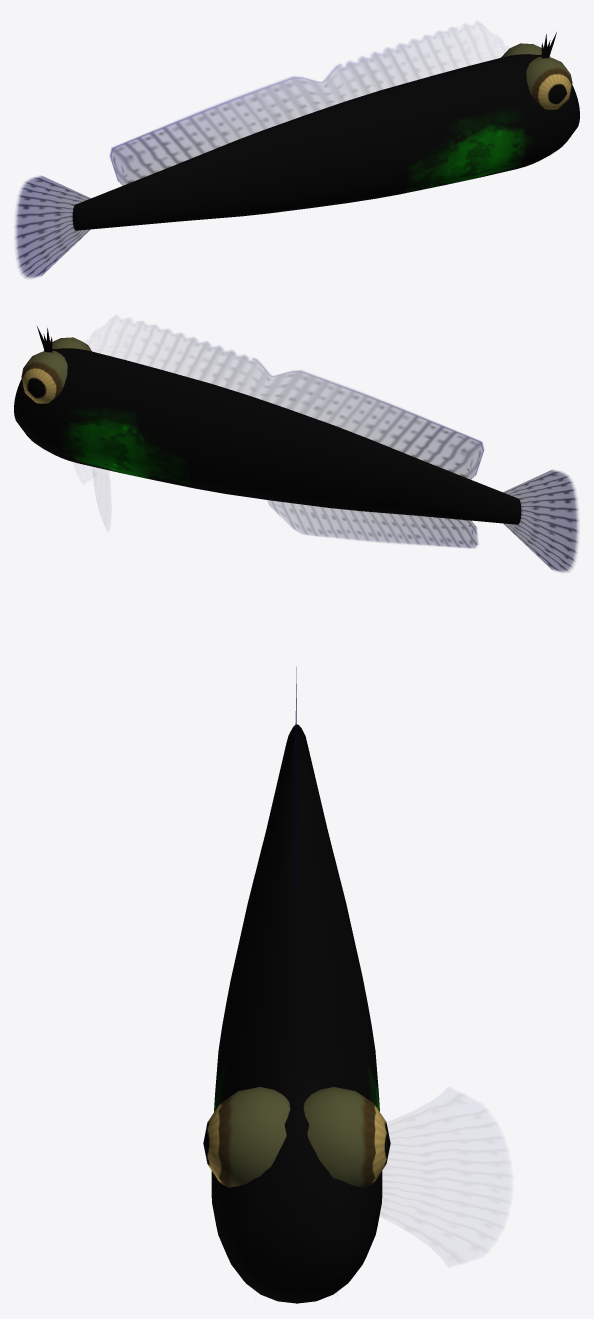
The model's file is lawnmower_blenny_lod1.glb.
3 views of the same model, one above another, from view 1: azimuth 30°, elevation 25°; view 2: azimuth 150°, elevation 25°; view 3: azimuth 270°, elevation 25° (orthographic). The views are drawn at different scales.
Visible parts, largest first — view 1: Body, FinDorsal, FinCaudal, EyeR, EyeL; view 2: Body, FinDorsal, FinAnal, FinCaudal, EyeL, EyeR; view 3: Body, EyeL, EyeR.
Part boxes in pixels (box(x1,y1,x2,y2)): Body: box(72, 32, 579, 230); FinDorsal: box(110, 32, 458, 185); FinCaudal: box(15, 176, 90, 278); EyeR: box(526, 56, 572, 109); EyeL: box(501, 43, 549, 57); Body: box(14, 326, 521, 524); FinDorsal: box(136, 323, 483, 479); FinAnal: box(267, 500, 477, 548); FinCaudal: box(503, 470, 578, 572); EyeL: box(21, 350, 67, 403); EyeR: box(44, 337, 91, 351); Body: box(211, 724, 382, 1303); EyeL: box(303, 1087, 390, 1187); EyeR: box(203, 1087, 290, 1187).
Size of the model in its own units: 1 by 0.3054 by 0.3391.
Materials: 4 (3 with a texture image).
